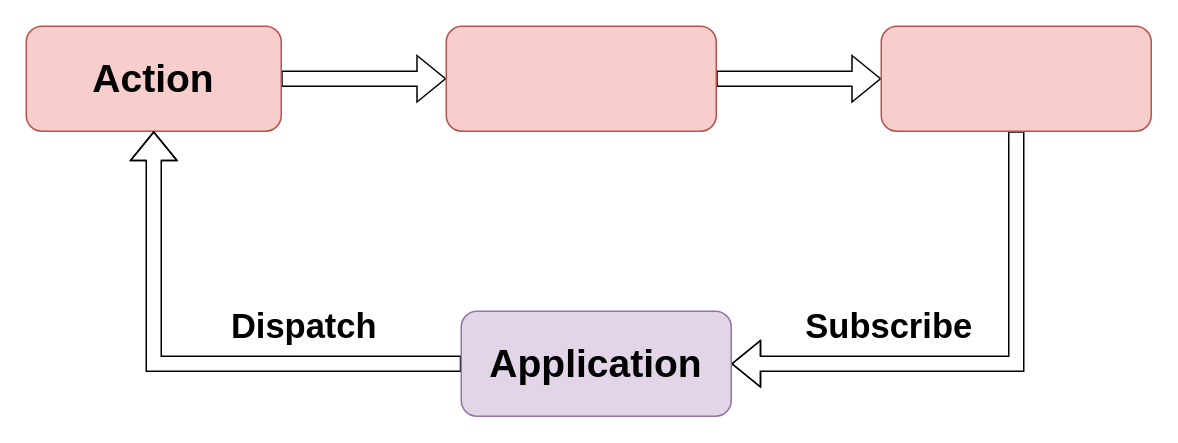
Some shapes in this 1178 by 443 pixel diagram are drawn without their labels. The shapes that lost their labels are listed below. From the top down, each one's box as (x1, y1, x2, y2) in pixels, then its label:
(445, 25, 716, 131): Reducer
(880, 25, 1151, 131): Store
